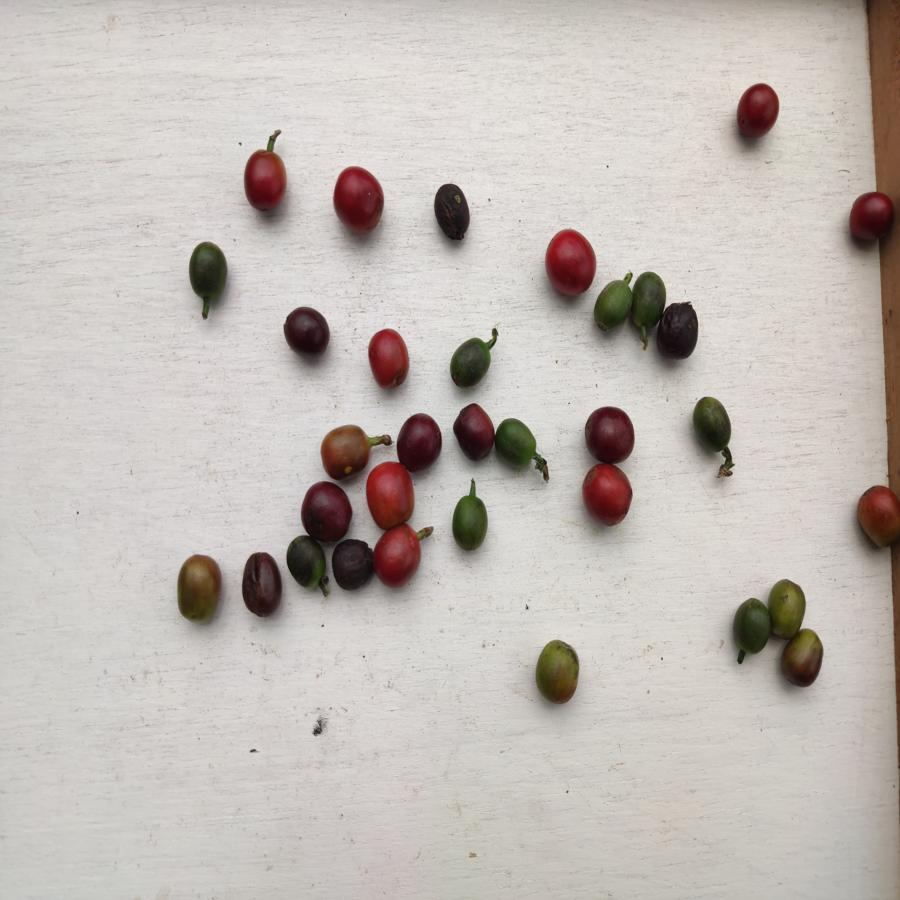Inmaduro: (495, 415, 540, 472), (690, 395, 734, 453), (732, 594, 770, 660), (187, 240, 226, 302), (593, 277, 632, 336), (451, 495, 489, 554), (287, 535, 326, 589), (450, 336, 490, 387), (632, 270, 662, 332)
Maduro: (542, 228, 596, 298), (331, 165, 386, 233), (582, 463, 633, 527), (366, 461, 416, 526), (375, 525, 421, 588), (244, 149, 288, 213), (366, 327, 409, 391), (736, 82, 782, 141), (847, 190, 894, 244)
Pinton: (175, 553, 222, 624), (854, 482, 900, 552), (533, 638, 579, 706), (781, 623, 827, 688), (319, 426, 370, 478), (770, 577, 810, 635)
Sobremaduro: (302, 480, 356, 541), (583, 406, 636, 464), (397, 410, 444, 473), (241, 550, 282, 620), (279, 305, 333, 356), (453, 401, 495, 463), (431, 180, 471, 242), (660, 300, 699, 361), (333, 539, 374, 592)
